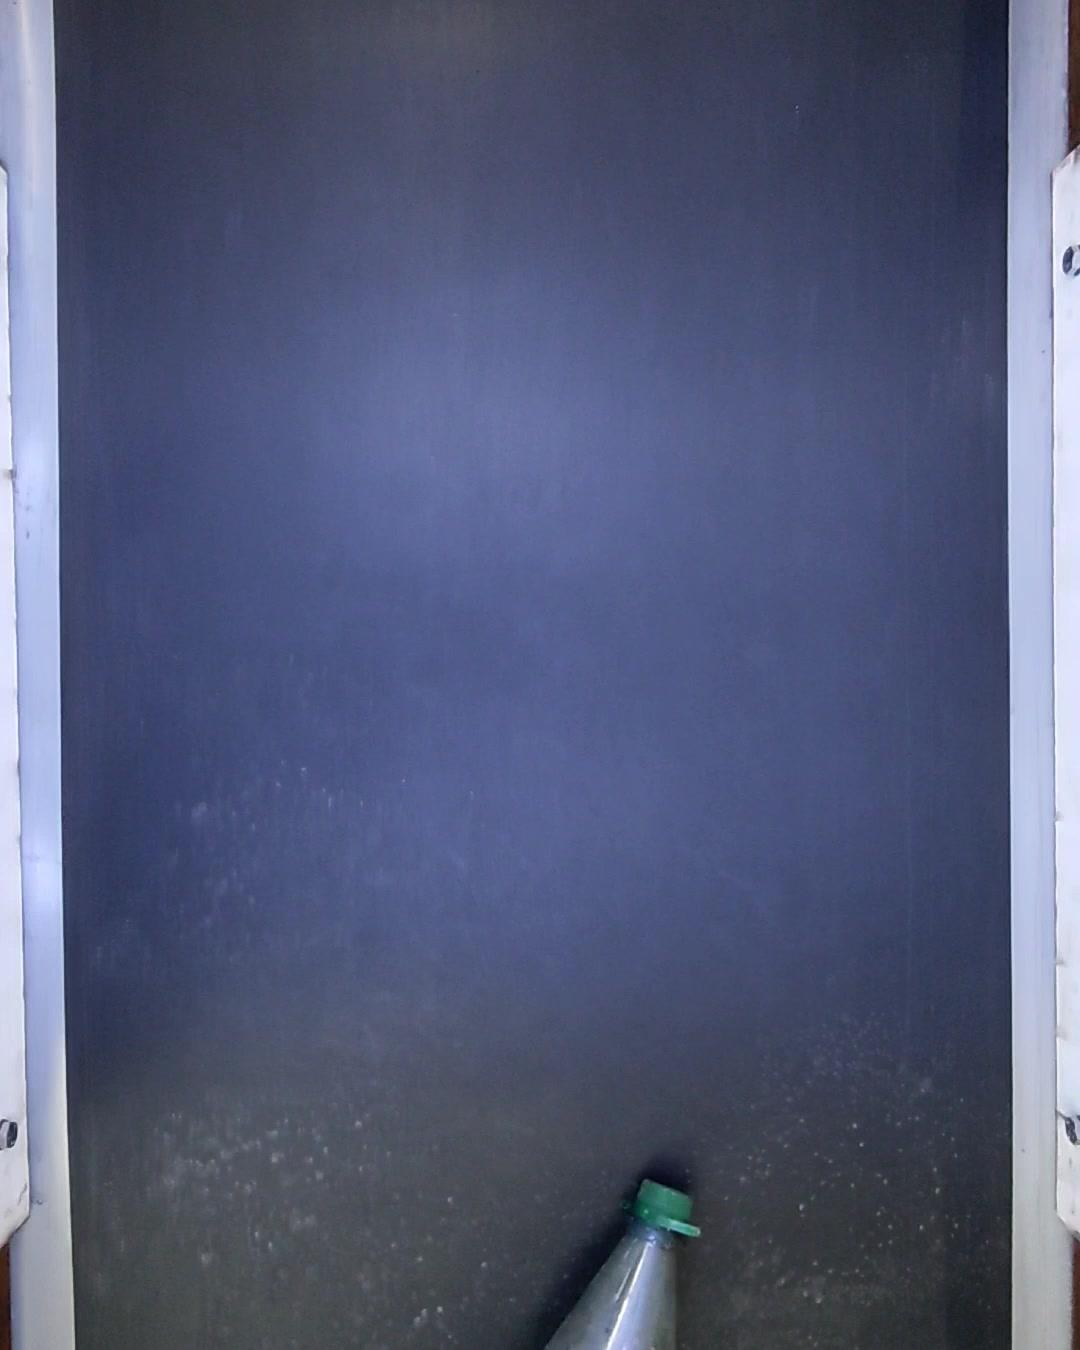Drankflessen - 1-2 liter: (542, 1177, 711, 1350)
